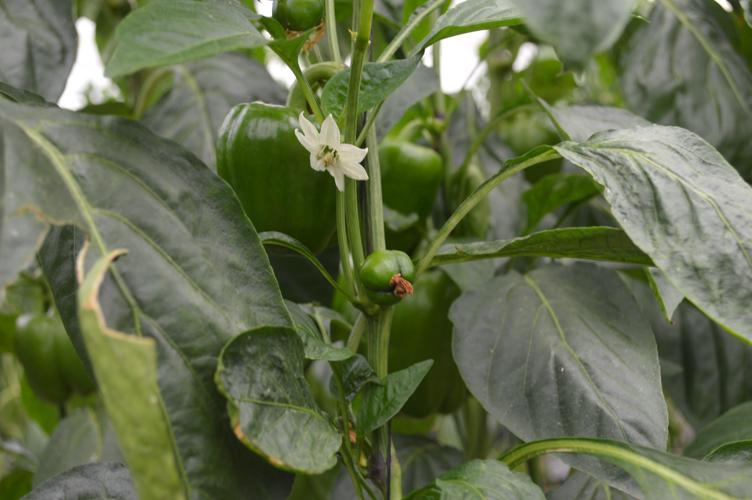BellPepper: (202, 98, 348, 256), (367, 270, 469, 412), (369, 137, 441, 213)
